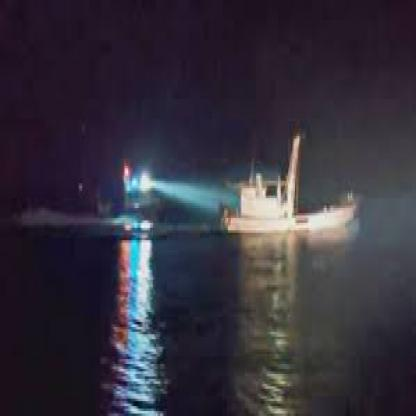fish-b: (213, 124, 369, 250)
